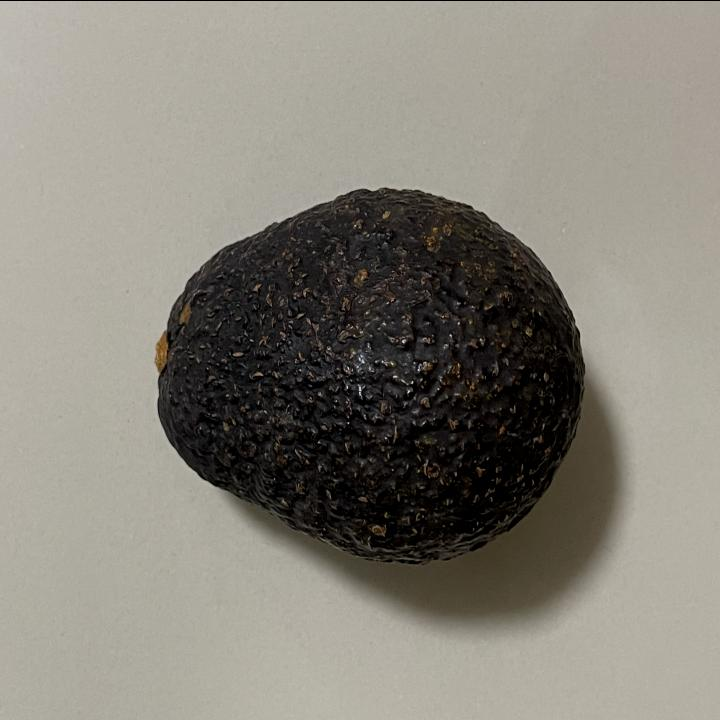Level2: (144, 179, 588, 575)
